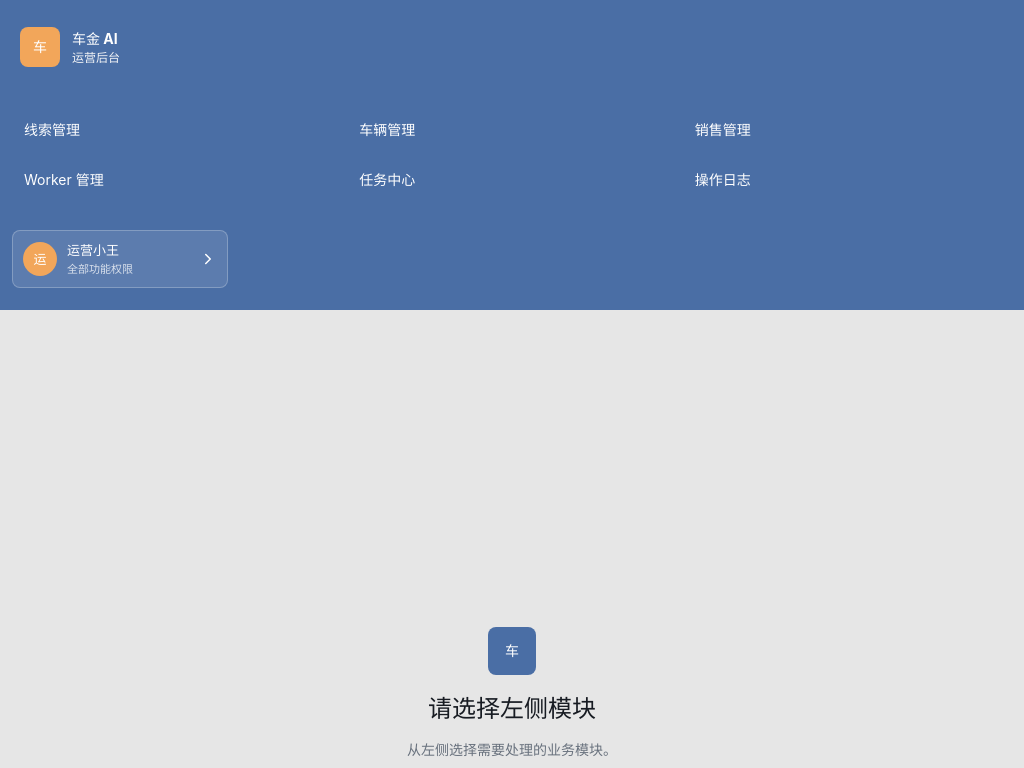
it: 运营后台登录门禁 › 退出后清空页面状态，无法继续查看后台
The image size is (1024, 768).
Expected: the heading "请选择左侧模块" is shown, [428, 694, 596, 723]
Click the button "车辆管理".
click(387, 130)  # box [347, 108, 677, 152]
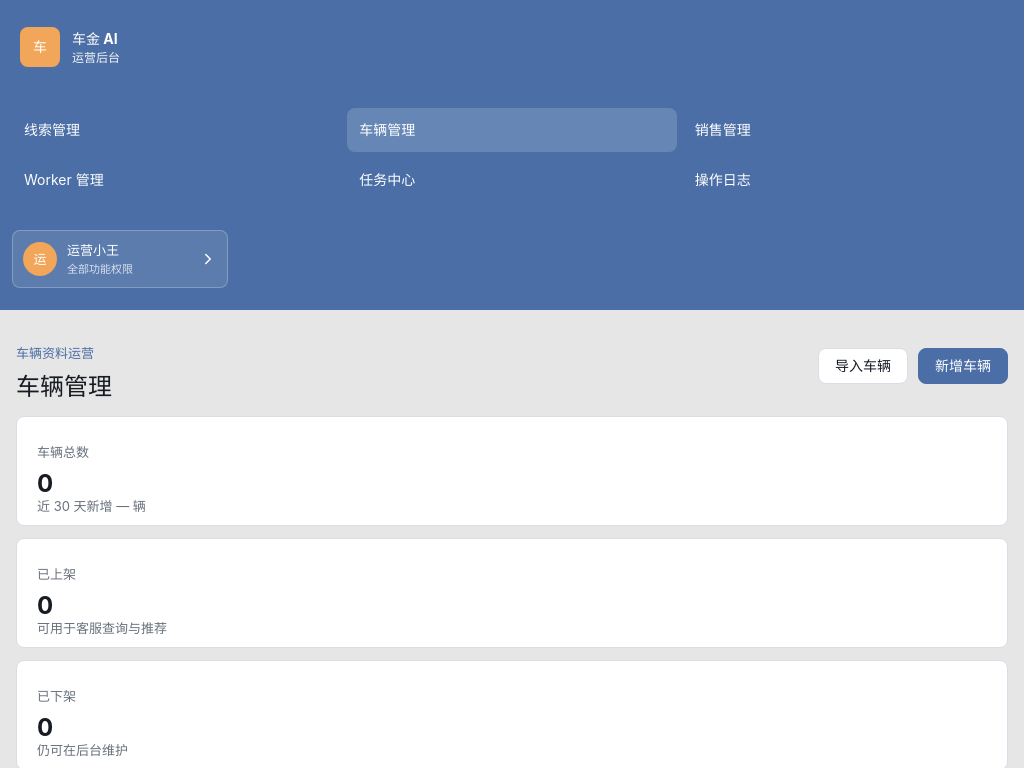
Click the button "运 运营小王 全部功能权限".
click(120, 259)  # box [12, 230, 228, 288]
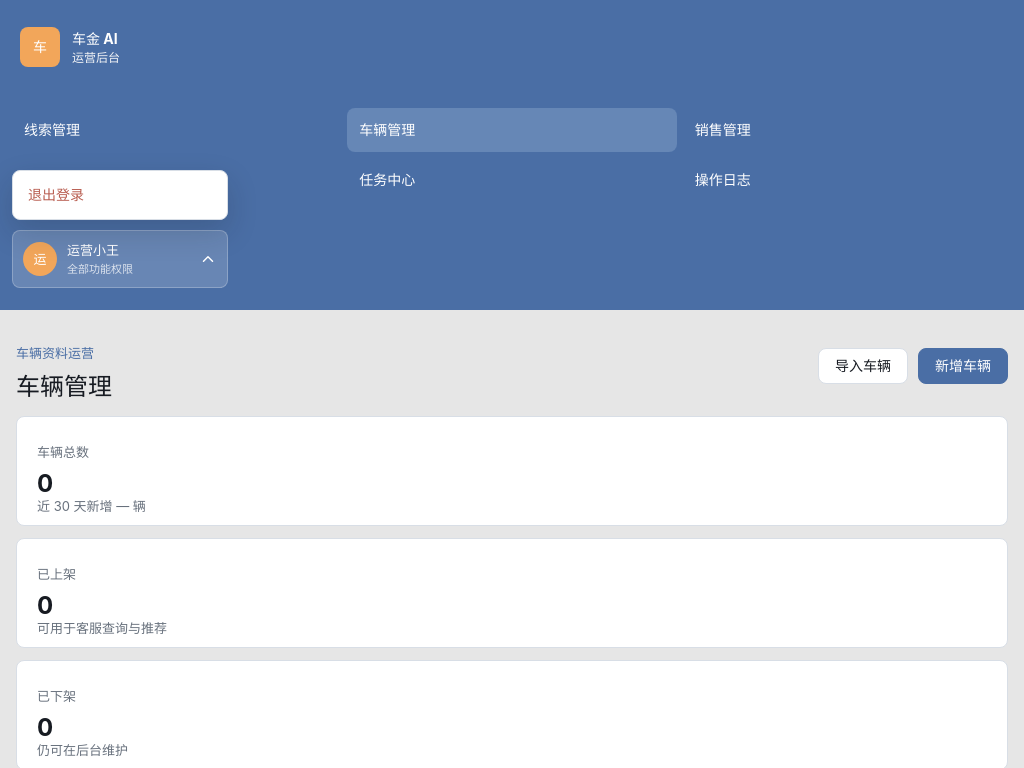
Click the menu item "退出登录".
click(120, 195)  # box [19, 177, 221, 213]
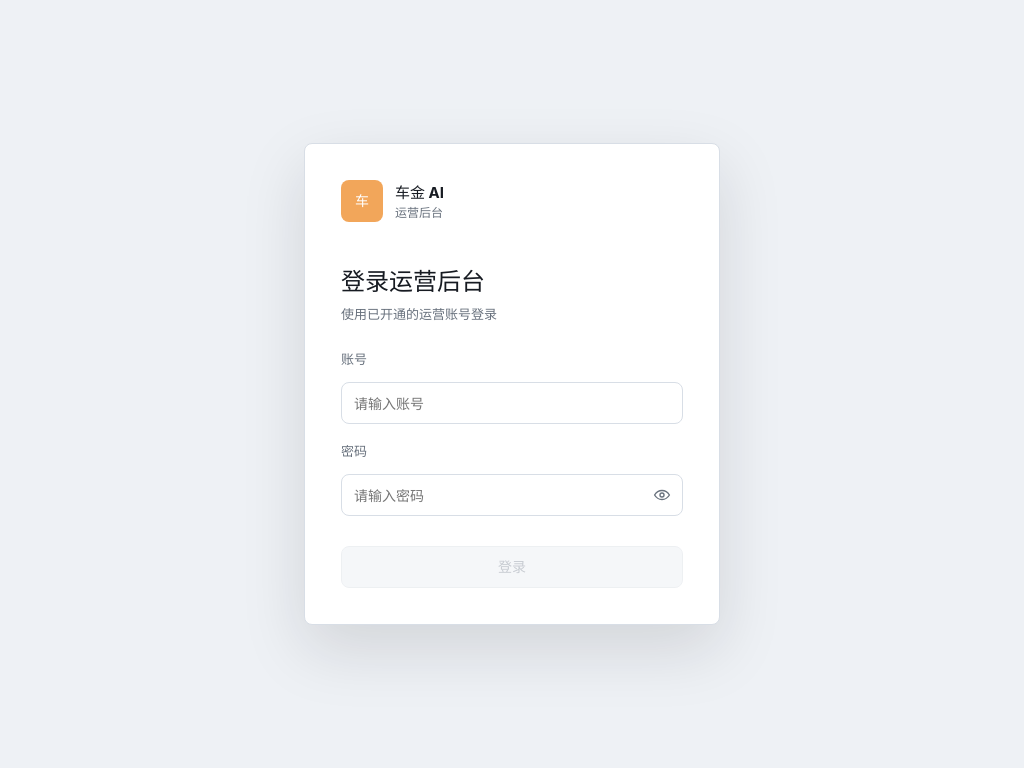
Now the heading "登录运营后台" is shown, box [341, 267, 485, 296]
